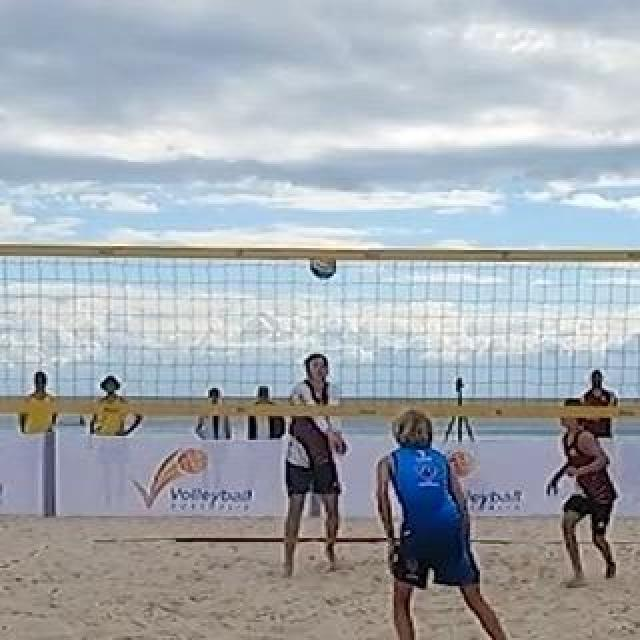volleyball: (308, 250, 338, 280)
